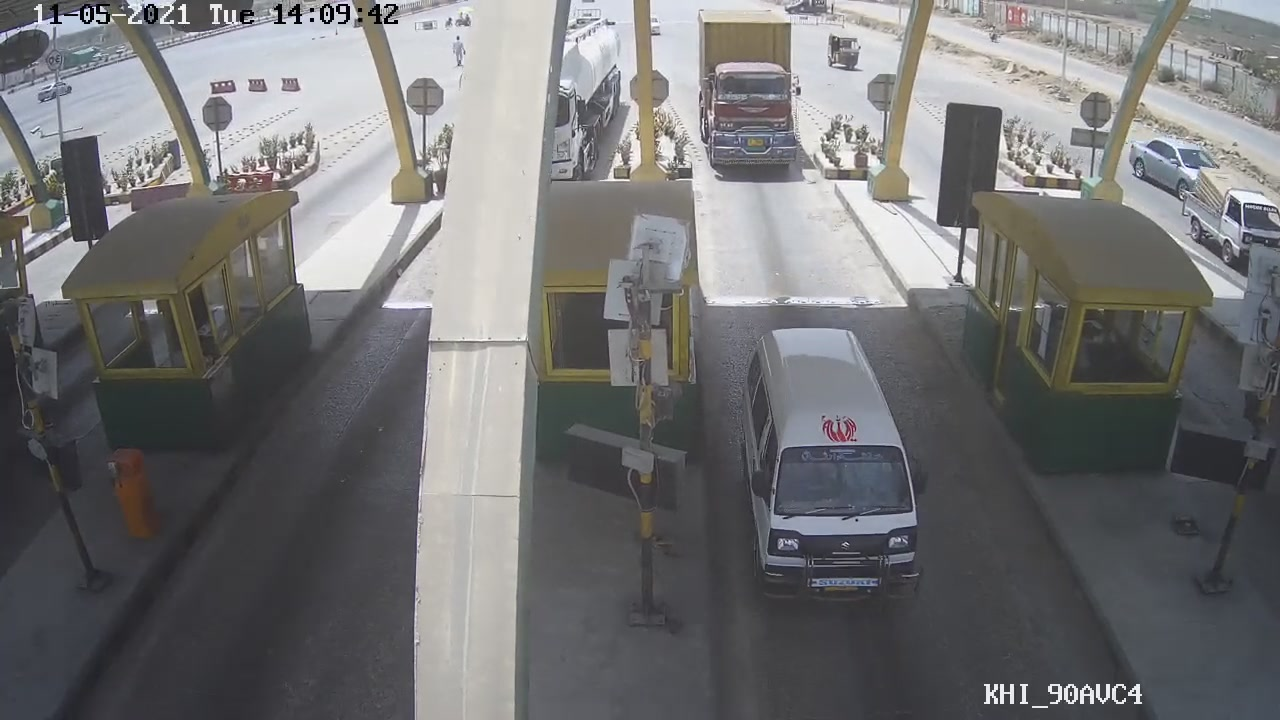F1: (734, 317, 926, 621)
